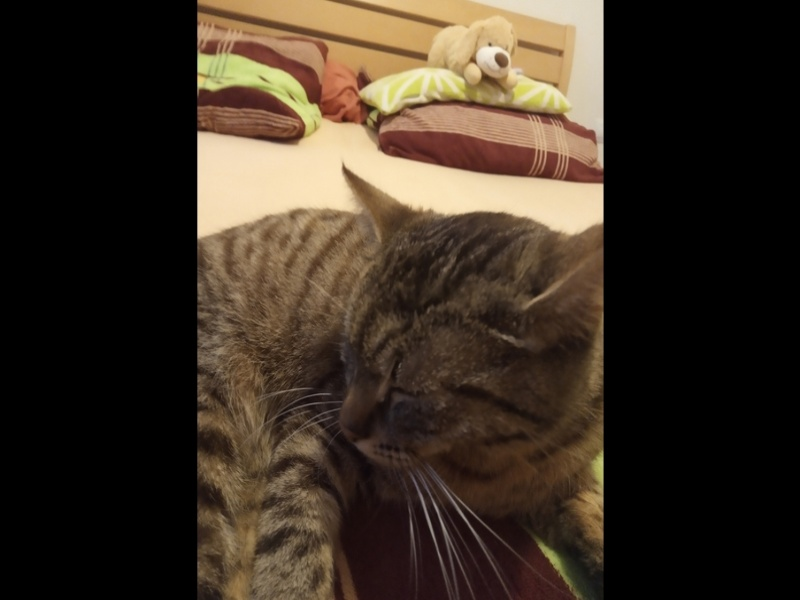cat: (203, 166, 599, 587)
